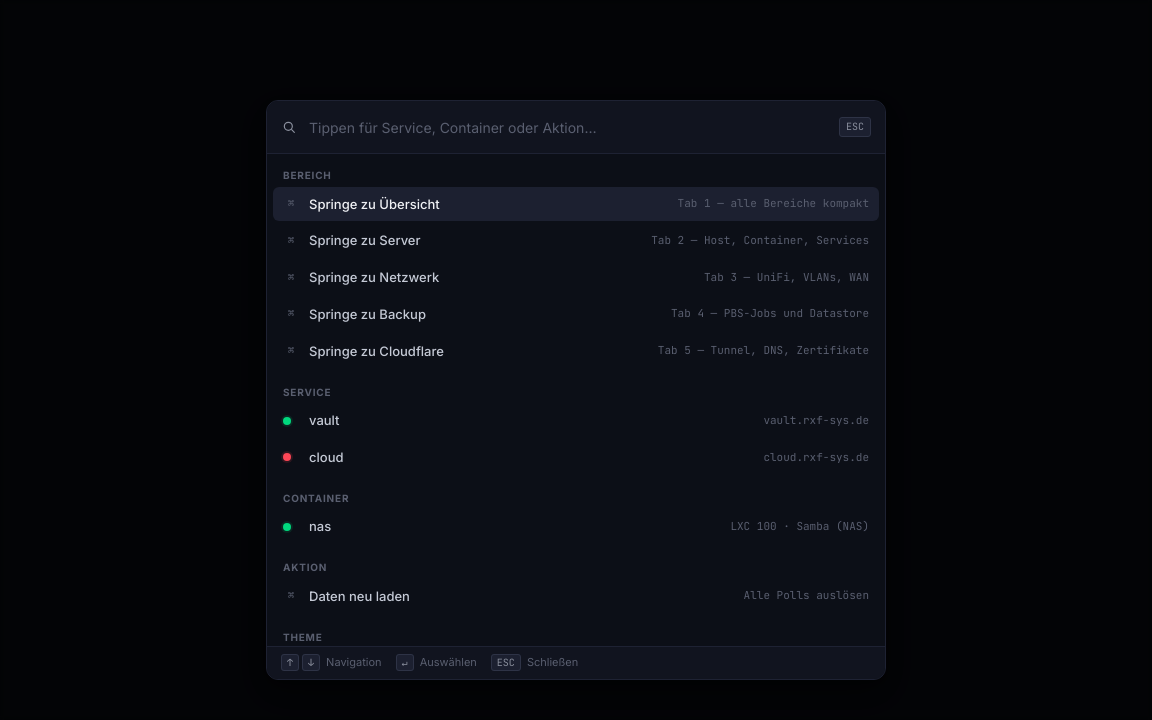
Scenario: CommandPalette › filters fuzzily by query
In the field with placeholder "Tippen für Service, Container oder Aktion…": {"x": 568, "y": 127} [307, 113, 829, 141], type "vlt"
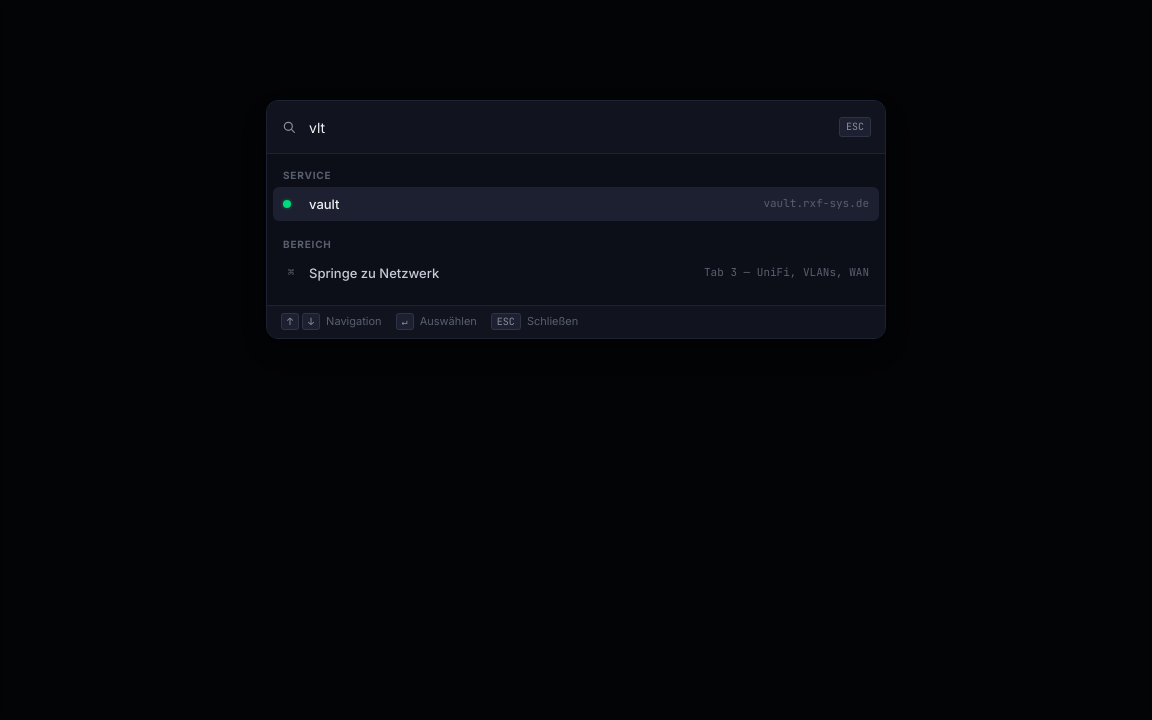
Expected: the text "vault" is shown, [309, 196, 340, 212]
Now the option "Cloud" is gone
